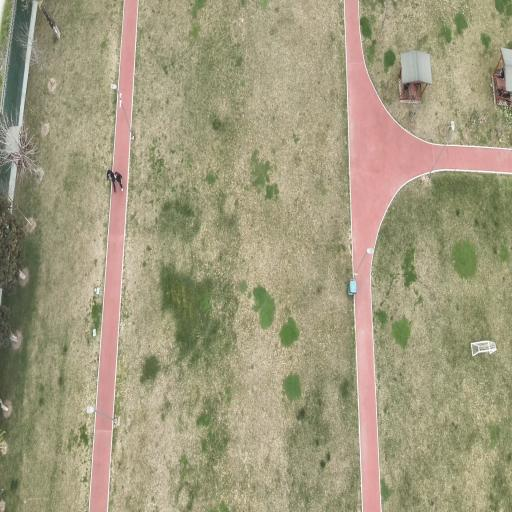person: (107, 169, 115, 191), (115, 172, 123, 191), (500, 68, 504, 79)
